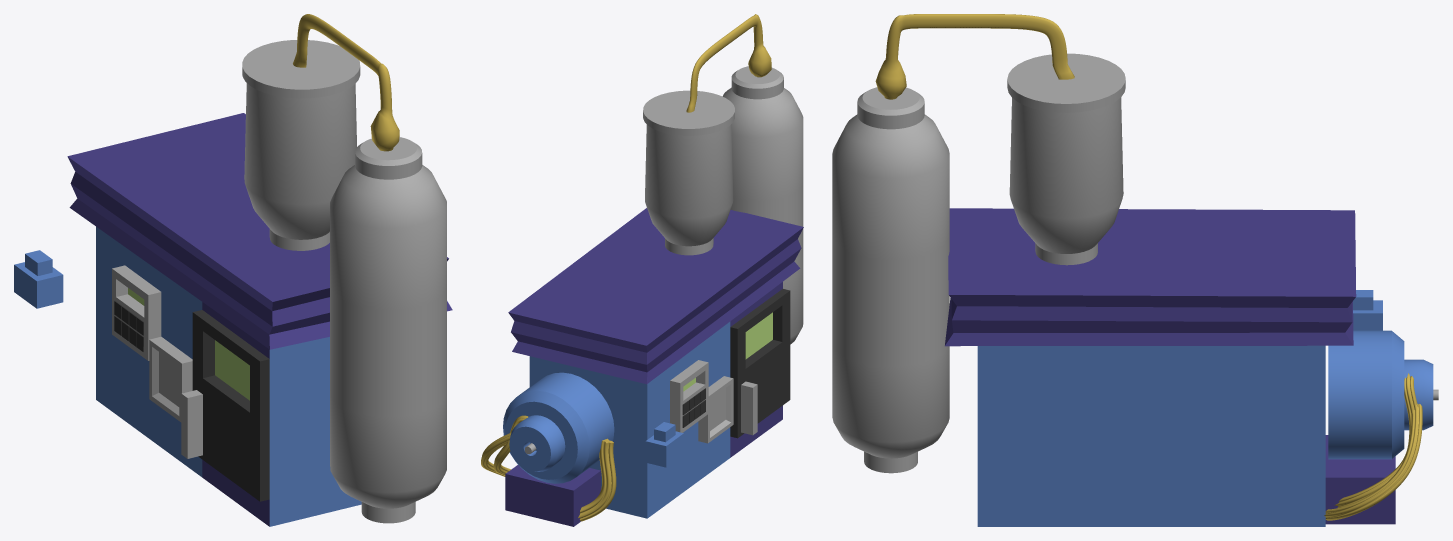
File: SurfaceArea_Refining.fbx
3 views of the same model, side by side, from view 1: azimuth 30°, elevation 25°; view 2: azimuth 150°, elevation 25°; view 3: azimuth 270°, elevation 25° (orthographic). The views are drawn at different scales.
Visible parts, largest first — view 1: Cylinder.312, Cube.323, Cube.324, Cylinder.313, NurbsPath.009, Cube.326, Cube.325, Cube.328, Cube.329; view 2: Cube.324, Cube.323, Cylinder.313, Cylinder.312, Cylinder.314, Cube.327, NurbsPath.009, Cube.325, Cube.326, Cube.328, NurbsPath.010, NurbsPath.011 (+1 smaller); view 3: Cube.323, Cube.324, Cylinder.312, Cylinder.313, Cylinder.314, NurbsPath.009, Cube.327, NurbsPath.011, Cube.328.
Boxes of the visible parts, left/top/right/bottom form: Cylinder.312: left=330, top=137, right=446, bottom=523; Cube.323: left=96, top=226, right=361, bottom=526; Cube.324: left=67, top=113, right=452, bottom=349; Cylinder.313: left=242, top=40, right=360, bottom=250; NurbsPath.009: left=293, top=14, right=399, bottom=151; Cube.326: left=149, top=336, right=192, bottom=422; Cube.325: left=112, top=265, right=161, bottom=360; Cube.328: left=14, top=250, right=63, bottom=308; Cube.329: left=114, top=301, right=143, bottom=351; Cube.324: left=508, top=208, right=803, bottom=384; Cube.323: left=529, top=282, right=790, bottom=518; Cylinder.313: left=643, top=90, right=734, bottom=255; Cylinder.312: left=722, top=66, right=803, bottom=344; Cylinder.314: left=503, top=372, right=614, bottom=483; Cube.327: left=505, top=465, right=600, bottom=526; NurbsPath.009: left=686, top=14, right=771, bottom=112; Cube.325: left=670, top=360, right=708, bottom=432; Cube.326: left=698, top=376, right=733, bottom=443; Cube.328: left=645, top=422, right=683, bottom=467; NurbsPath.010: left=578, top=438, right=616, bottom=521; NurbsPath.011: left=481, top=415, right=528, bottom=476; Cube.323: left=977, top=345, right=1325, bottom=526; Cube.324: left=945, top=208, right=1356, bottom=346; Cylinder.312: left=832, top=87, right=949, bottom=473; Cylinder.313: left=1007, top=53, right=1125, bottom=265; Cylinder.314: left=1328, top=330, right=1438, bottom=459; NurbsPath.009: left=875, top=14, right=1074, bottom=99; Cube.327: left=1325, top=435, right=1395, bottom=524; NurbsPath.011: left=1324, top=373, right=1422, bottom=520; Cube.328: left=1353, top=290, right=1382, bottom=330.
Size of the model in its own units: 1.45 by 3.24 by 2.8.
